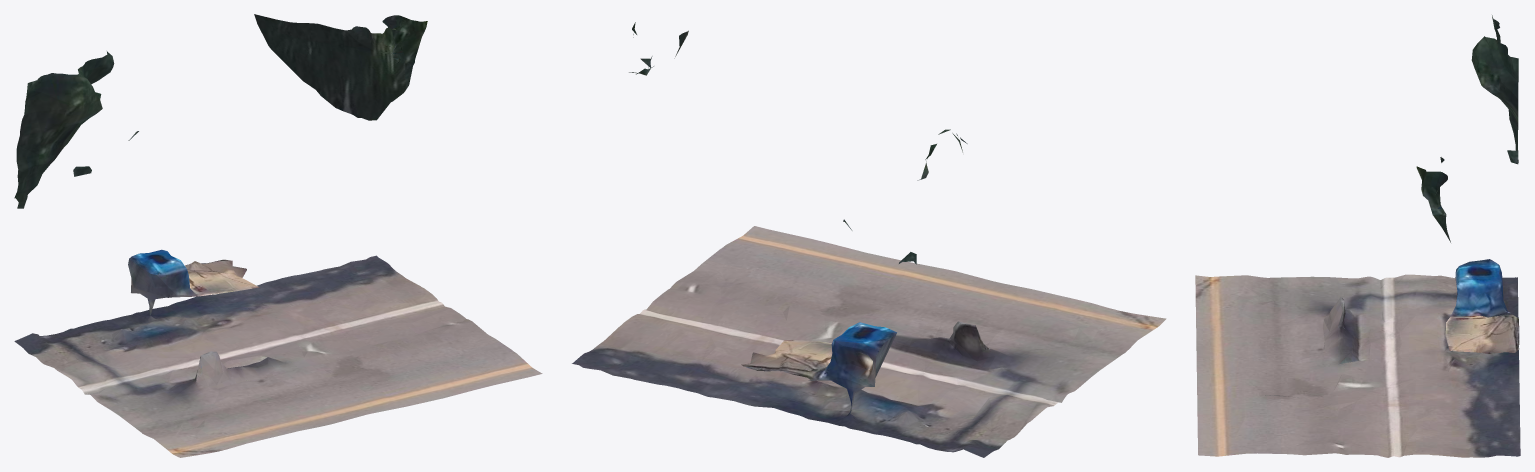
The model's file is Tile_+006_+007_L22_0002140.glb.
3 views of the same model, side by side, from view 1: azimuth 30°, elevation 25°; view 2: azimuth 150°, elevation 25°; view 3: azimuth 270°, elevation 25° (orthographic). The views are drawn at different scales.
Parts seen in each view (by area): view 1: rtc; view 2: rtc; view 3: rtc.
Boxes of the visible parts, left/top/right/bottom form: rtc: left=14, top=14, right=542, bottom=457; rtc: left=572, top=22, right=1166, bottom=457; rtc: left=1195, top=15, right=1520, bottom=457.
Size of the model in its own units: 8.86 by 6.35 by 6.94.
1 material, 1 textured.
